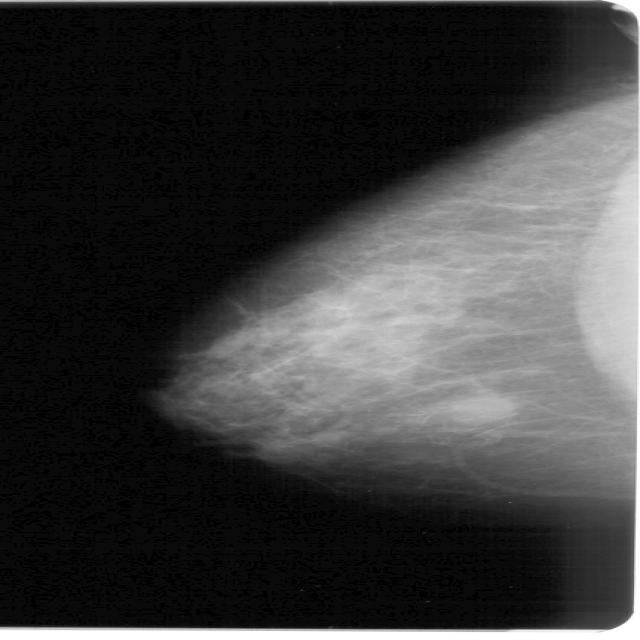tumour: (444, 389, 517, 424)
